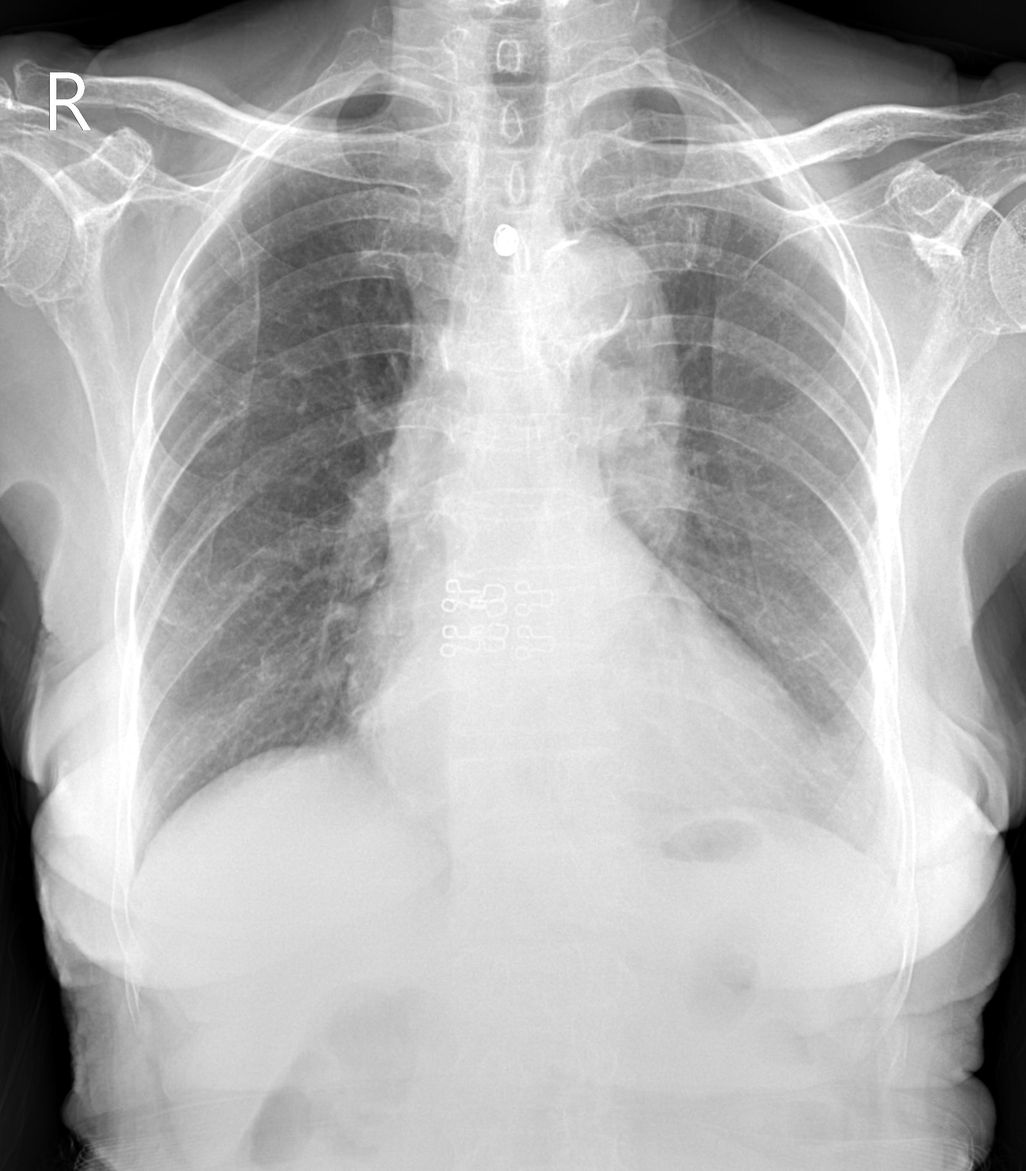Aortic enlargement: (516, 230, 679, 394)
Cardiomegaly: (339, 625, 852, 844)
Pleural thickening: (578, 86, 635, 131)
Pulmonary fibrosis: (203, 404, 247, 439), (158, 614, 178, 627)
